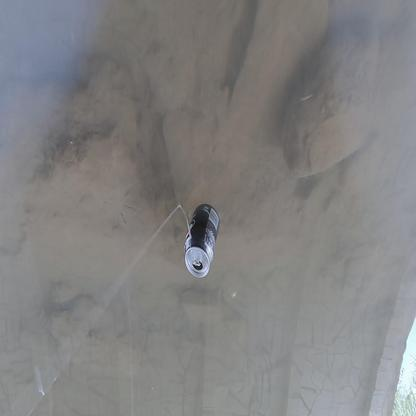can: (183, 204, 220, 279)
